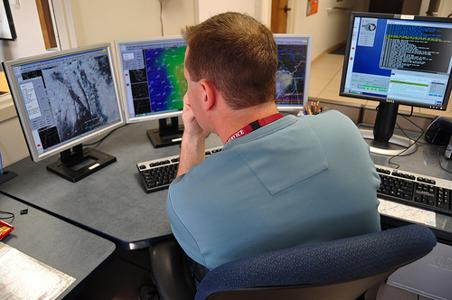person: (166, 13, 384, 272)
